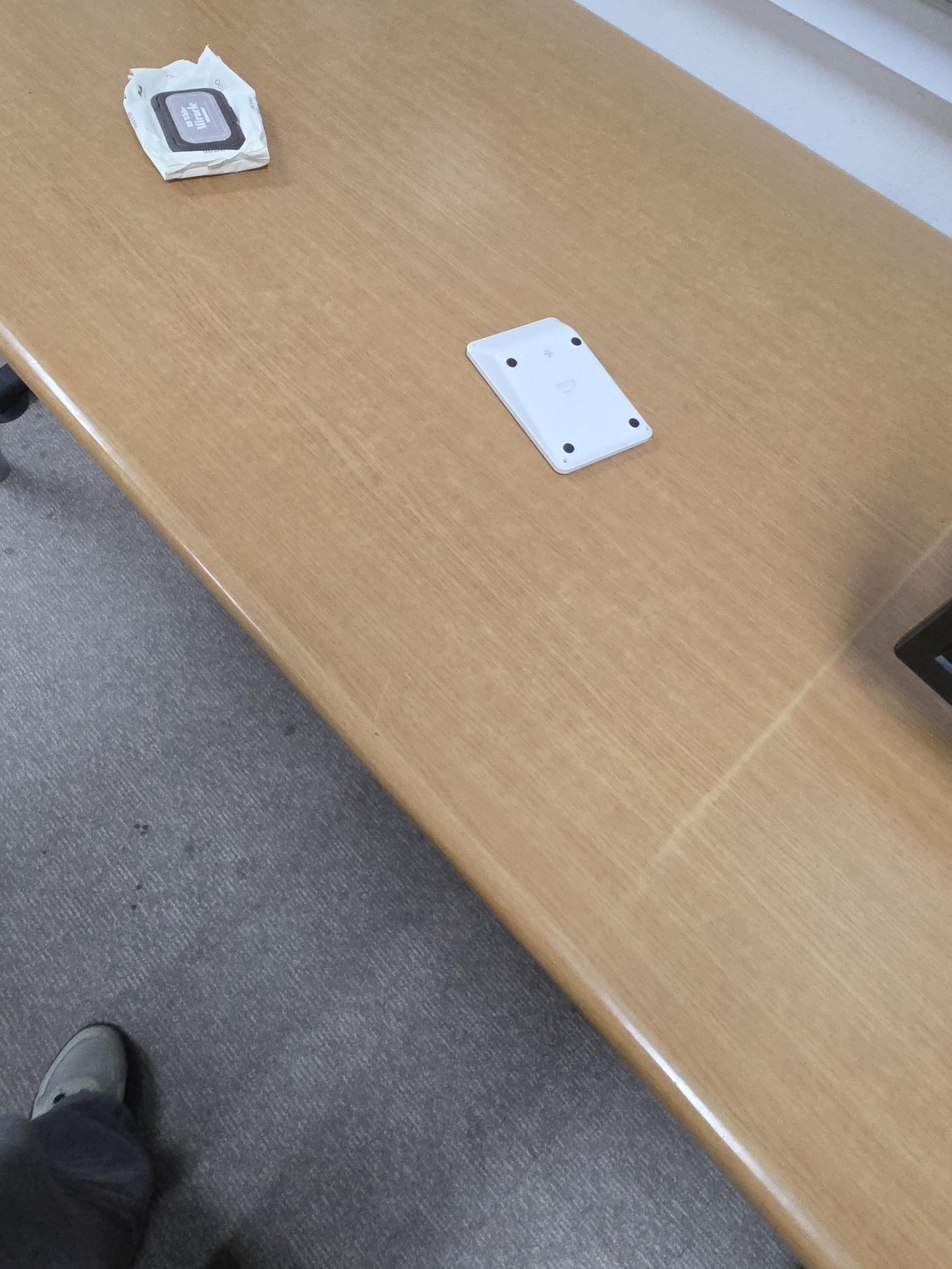calculator: (466, 317, 653, 475)
tissue: (123, 45, 271, 181)
